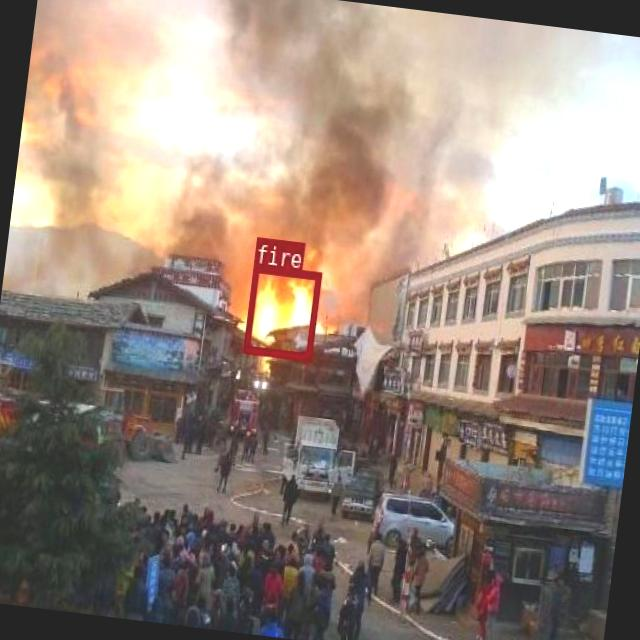fire: (243, 262, 320, 358)
